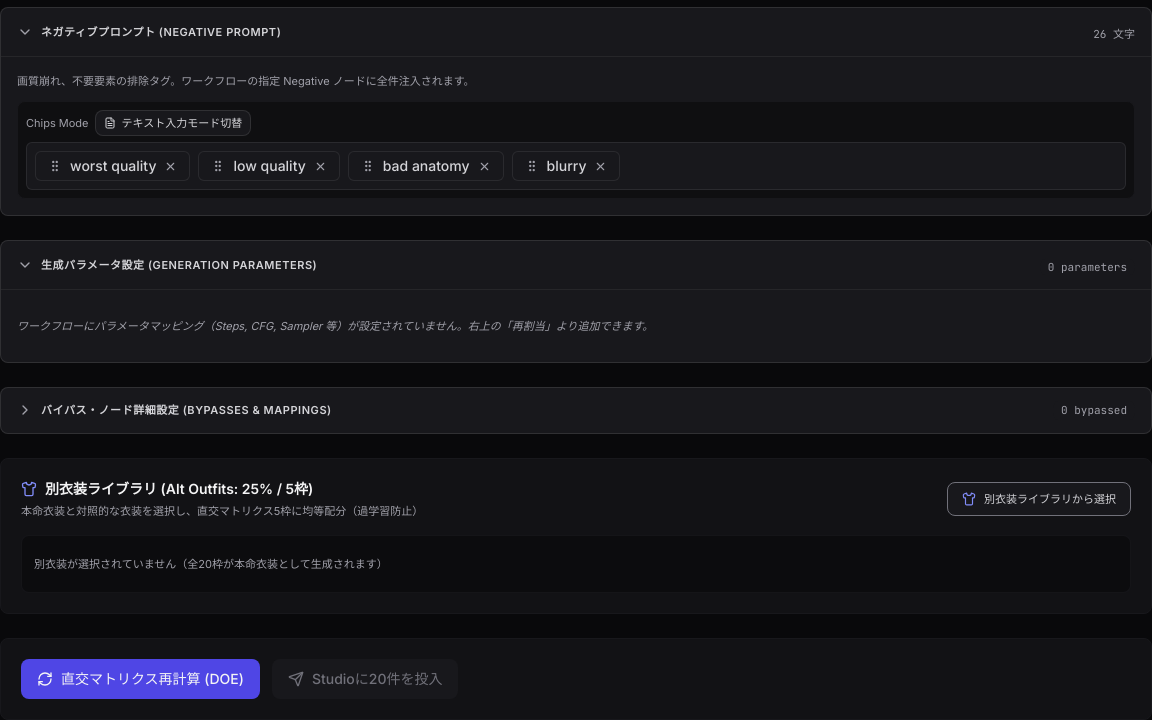
Scenario: MatrixGenerationStep › calculates orthogonal matrix on button click and saves to store
(page scrolled)
Click the button with test id "calculate-matrix-button" at (140, 678), box [21, 658, 260, 698]
(page scrolled)
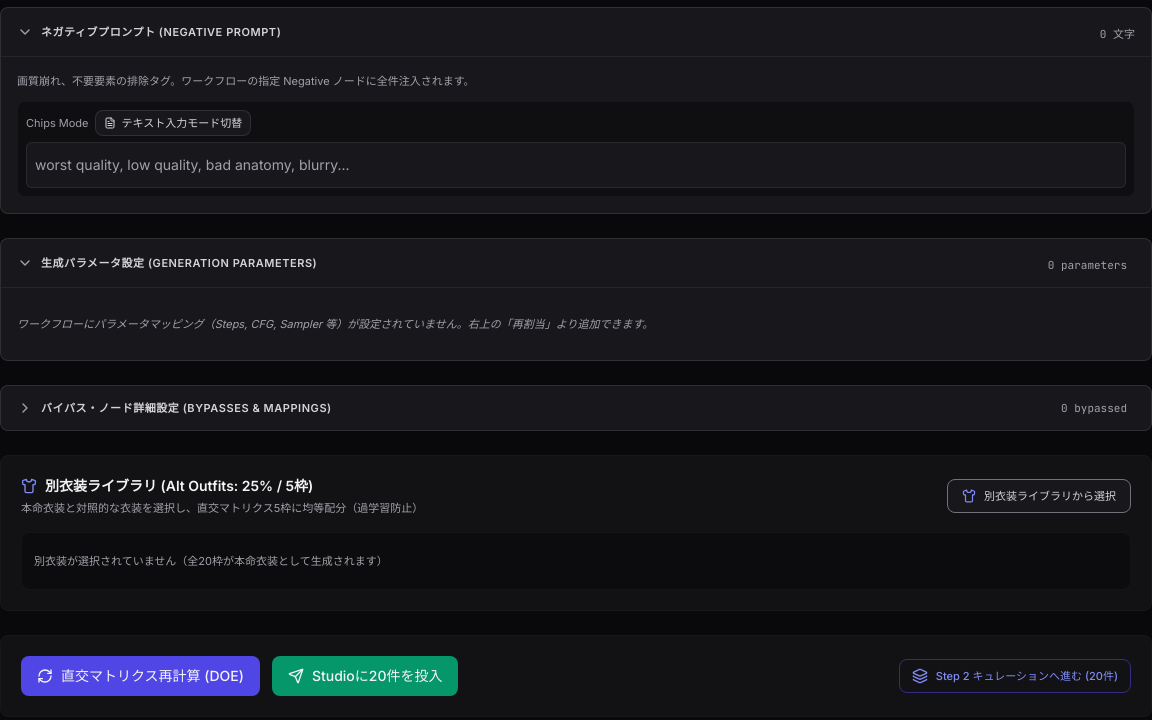
Expected: the button with test id "proceed-to-curation-button" is shown, [899, 659, 1131, 693]
